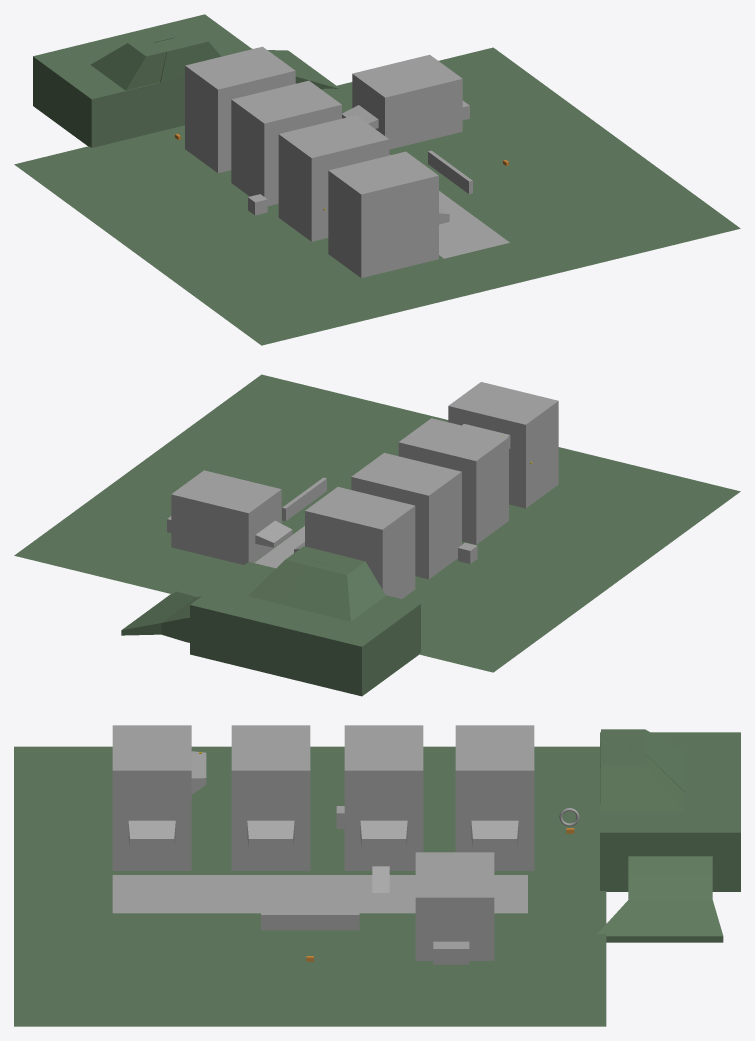
Rendered from roughmap.fbx.
The picture shows the model from 3 angles, top to bottom: view 1: azimuth 30°, elevation 25°; view 2: azimuth 150°, elevation 25°; view 3: azimuth 270°, elevation 25°; orthographic projection. The views are drawn at different scales.
Parts seen in each view (by area): view 1: pPlane1, pCube18, pCube12, pCube14, pCube13, pCube16, pCube17, pPlane2, pCube11; view 2: pPlane1, pCube18, pCube14, pCube17, pCube12, pCube13, pCube16, pPlane2, pCube11; view 3: pPlane1, pCube18, pPlane2, pCube12, pCube13, pCube16, pCube17, pCube14, pCube11, pCube4.
Part boxes in pixels (bbox=[...]): pPlane1: bbox=[14, 47, 740, 345]; pCube18: bbox=[33, 14, 338, 147]; pCube12: bbox=[328, 151, 449, 277]; pCube14: bbox=[342, 54, 462, 149]; pCube13: bbox=[278, 115, 389, 241]; pCube16: bbox=[231, 80, 341, 206]; pCube17: bbox=[185, 46, 295, 173]; pPlane2: bbox=[389, 154, 509, 258]; pCube11: bbox=[428, 150, 472, 194]; pPlane1: bbox=[14, 374, 740, 672]; pCube18: bbox=[121, 546, 420, 696]; pCube14: bbox=[171, 470, 292, 564]; pCube17: bbox=[294, 487, 415, 598]; pCube12: bbox=[448, 382, 558, 508]; pCube13: bbox=[398, 418, 508, 544]; pCube16: bbox=[351, 453, 461, 579]; pPlane2: bbox=[254, 526, 304, 568]; pCube11: bbox=[282, 477, 326, 521]; pPlane1: bbox=[14, 746, 606, 1026]; pCube18: bbox=[597, 729, 740, 942]; pPlane2: bbox=[112, 875, 527, 913]; pCube12: bbox=[112, 725, 206, 870]; pCube13: bbox=[231, 725, 310, 870]; pCube16: bbox=[344, 725, 423, 870]; pCube17: bbox=[455, 725, 534, 870]; pCube14: bbox=[415, 852, 494, 960]; pCube11: bbox=[261, 913, 359, 930]; pCube4: bbox=[433, 941, 469, 964].
Bounding box in the file's own units: 38.17 × 7.04 × 41.9.
